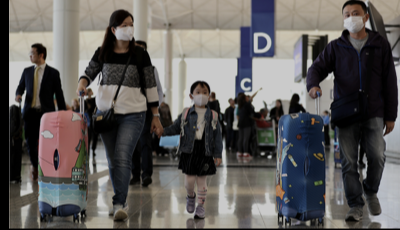with_mask: (344, 8, 366, 34), (116, 19, 135, 42), (194, 87, 210, 106)
without_mask: (29, 49, 39, 62)
